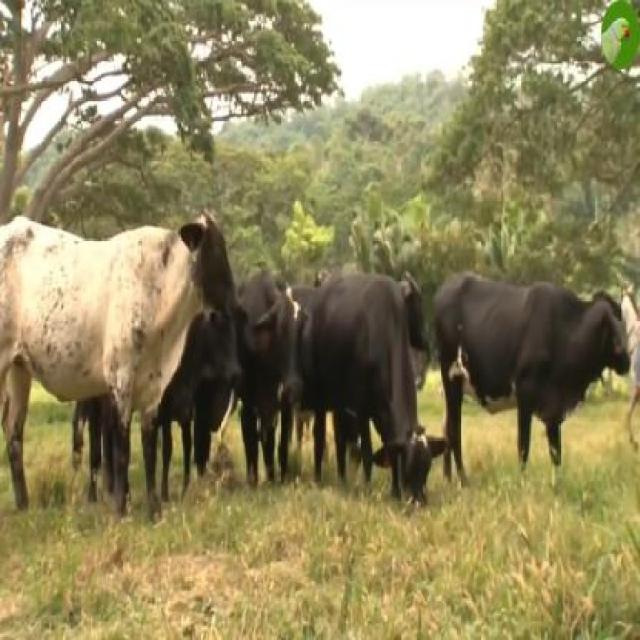Cow: (0, 215, 237, 517), (429, 272, 631, 485)
